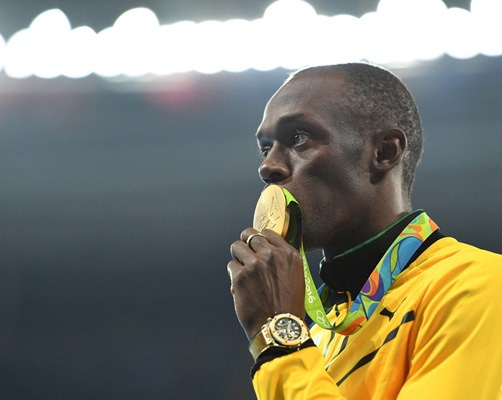face: (257, 83, 350, 247)
